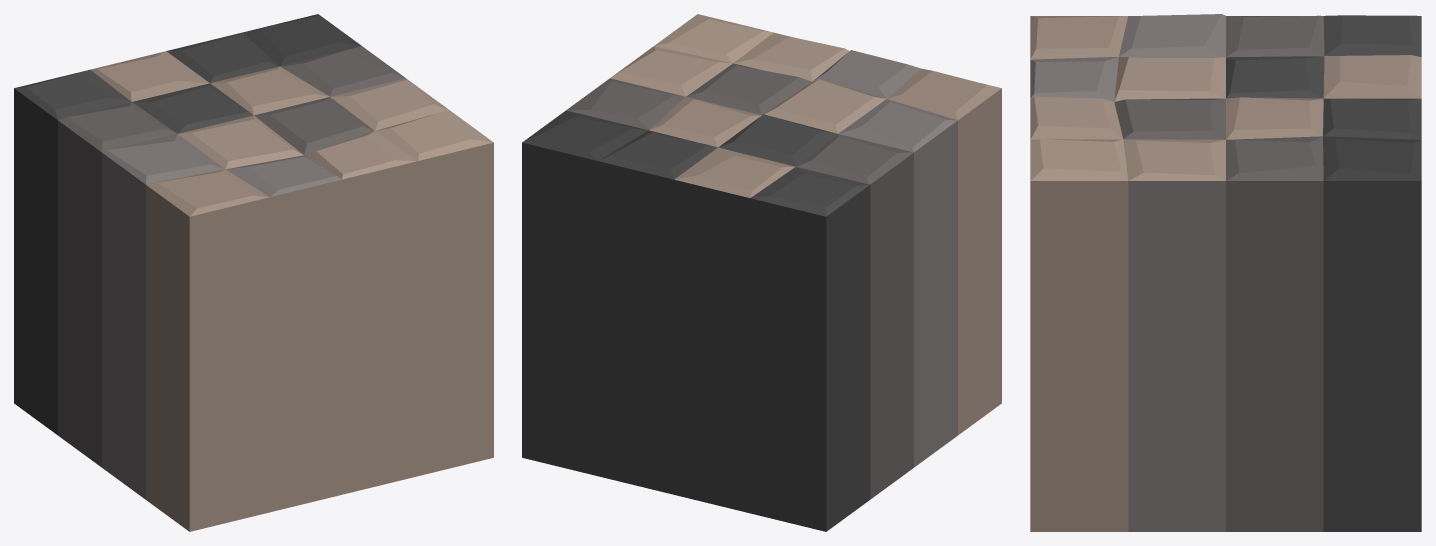
Rendered from Floor_1-5.fbx.
3 renders of one model, left to right at view 1: azimuth 30°, elevation 25°; view 2: azimuth 150°, elevation 25°; view 3: azimuth 270°, elevation 25°, orthographic. The views are drawn at different scales.
Visible parts, largest first — view 1: Floor_1-5; view 2: Floor_1-5; view 3: Floor_1-5.
Part boxes in pixels (x1,y1,x2,y2): Floor_1-5: (14,14,493,531); Floor_1-5: (522,14,1001,531); Floor_1-5: (1030,14,1421,531).
Size of the model in its own units: 1 by 1 by 1.
